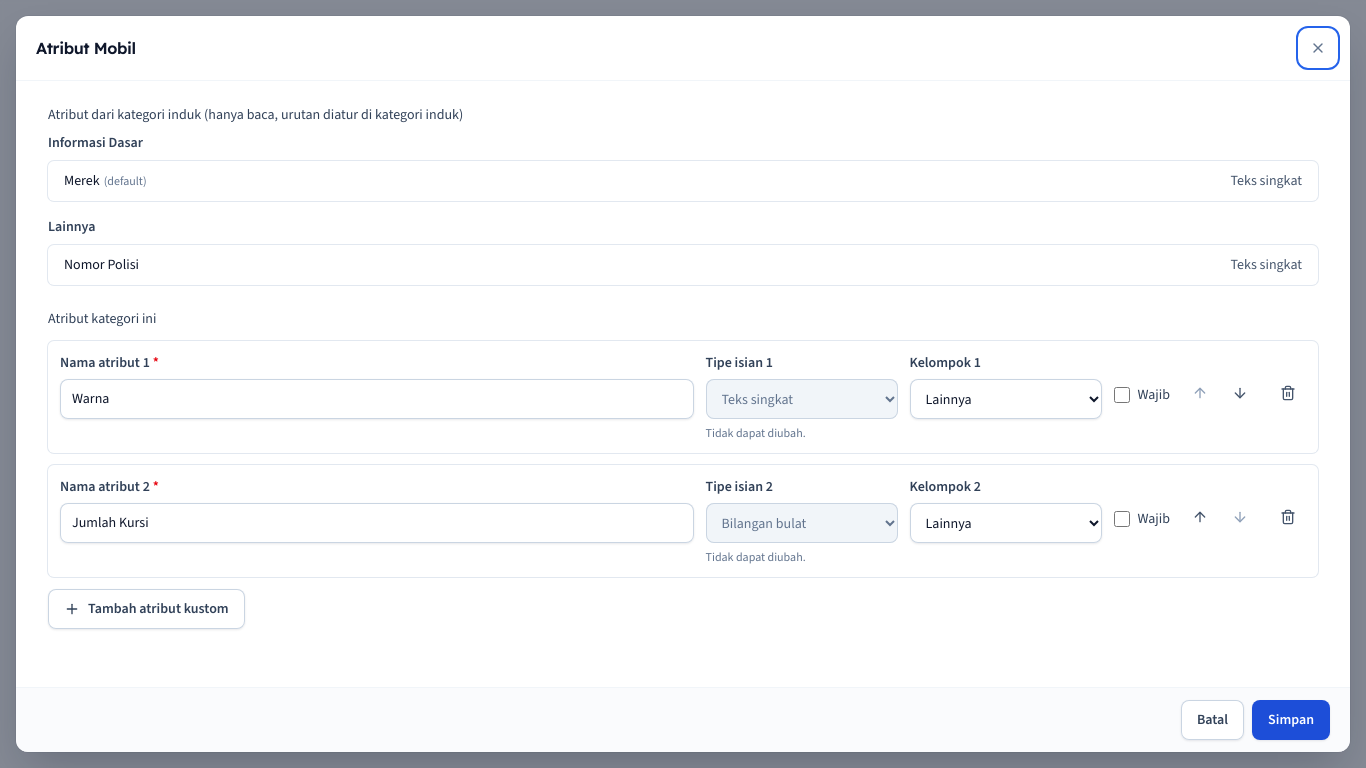
Test: CategoryAttributesModal › shows server errors on the row they belong to
Check: the field showing "Warna" is shown, box [60,379,694,419]
Click the button "Simpan" at {"x": 1291, "y": 720}, box [1252,700,1330,740]
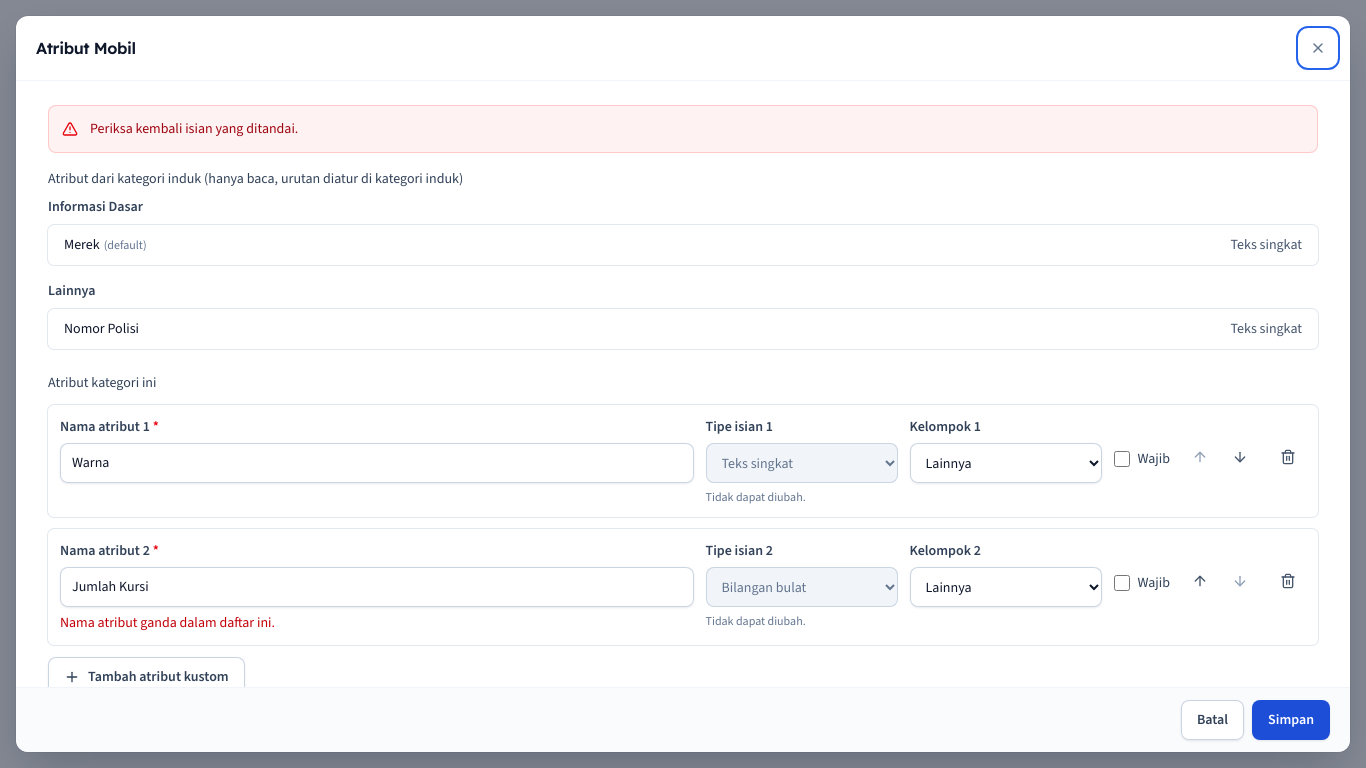
Check: the text "Nama atribut ganda dalam daftar ini." is shown, box [60,613,275,632]
